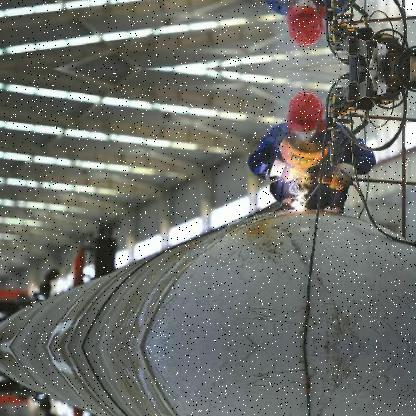helmet: (285, 85, 329, 138), (284, 0, 329, 50)
